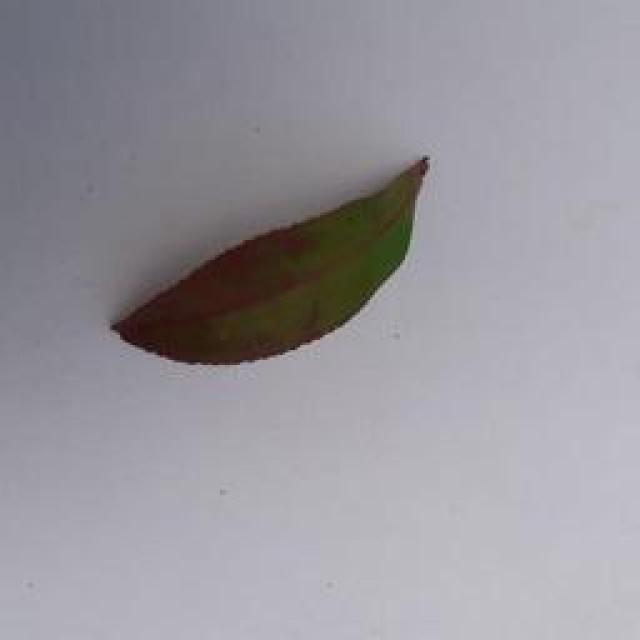Red Leaf Spot: (94, 152, 453, 378)
